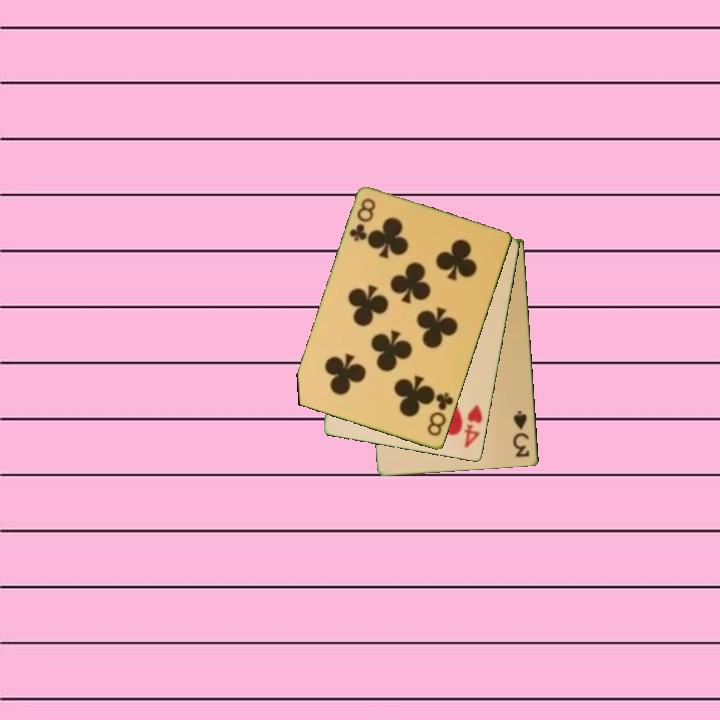3s: (510, 407, 533, 461)
4h: (461, 401, 485, 451)
8c: (424, 389, 457, 440), (346, 195, 378, 245)
